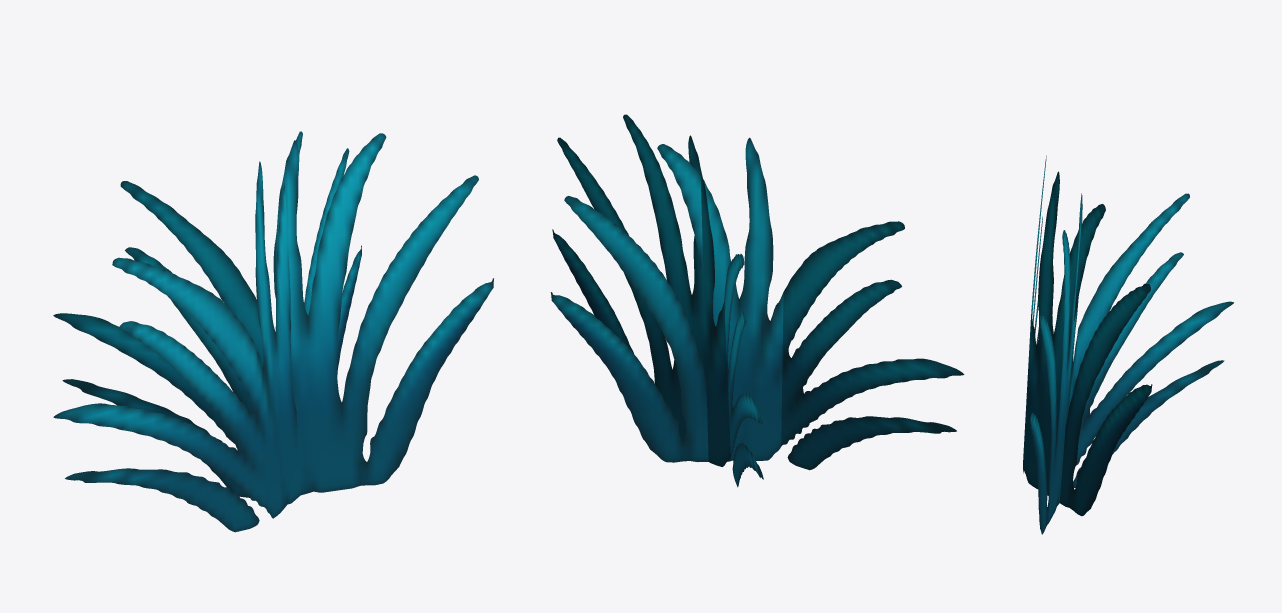
The model's file is cao04.FBX.
3 renders of one model, left to right at view 1: azimuth 30°, elevation 25°; view 2: azimuth 150°, elevation 25°; view 3: azimuth 270°, elevation 25°, orthographic. The views are drawn at different scales.
Visible parts, largest first — view 1: cao02; view 2: cao02; view 3: cao02.
Part boxes in pixels (bbox=[...]): cao02: bbox=[53, 131, 493, 532]; cao02: bbox=[550, 114, 964, 487]; cao02: bbox=[1023, 155, 1233, 534].
Size of the model in its own units: 57.08 by 50.8 by 29.05.
